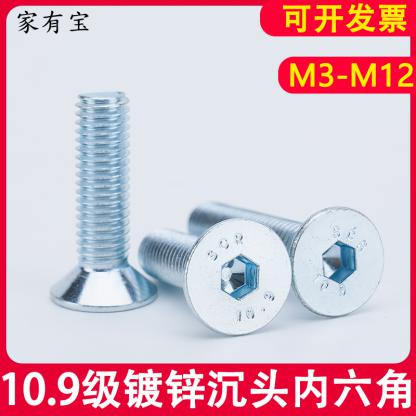FOD: (47, 94, 160, 316), (182, 198, 386, 320), (137, 216, 294, 338)
